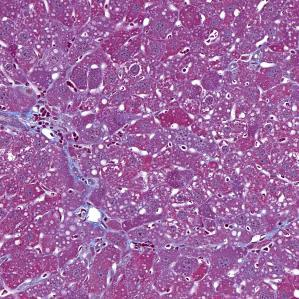fibrosis: (64, 146, 115, 239)
